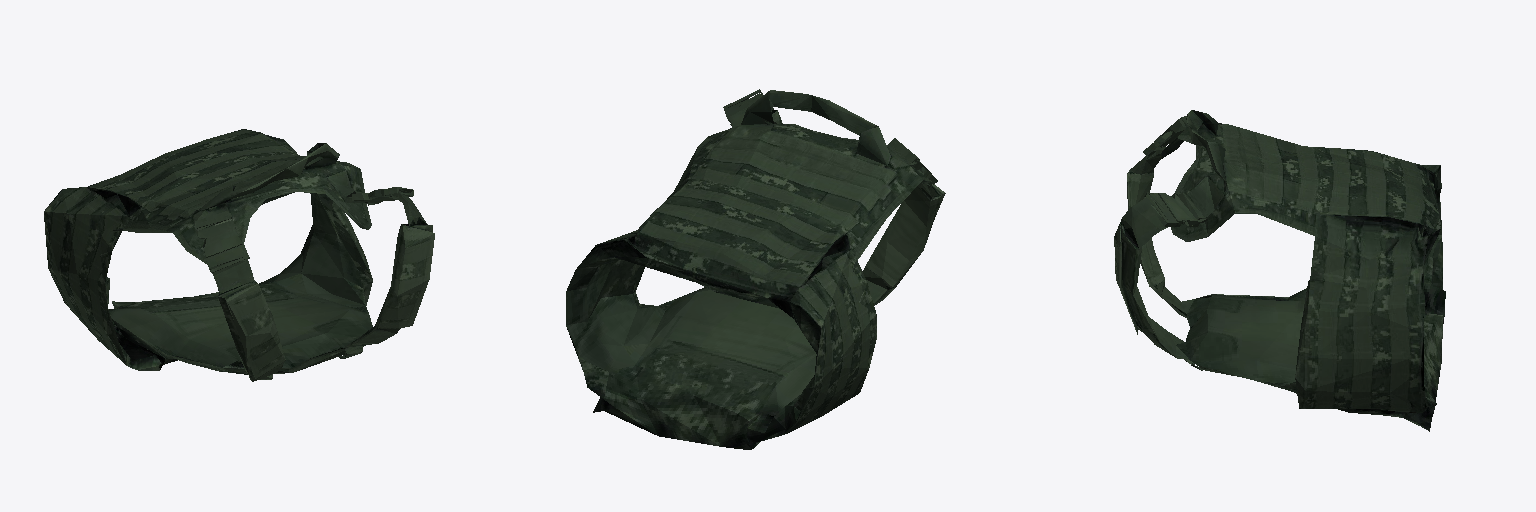
3 renders of one model, left to right at view 1: azimuth 30°, elevation 25°; view 2: azimuth 150°, elevation 25°; view 3: azimuth 270°, elevation 25°, orthographic.
Visible parts, largest first — view 1: PlateCarrier2.0.low_RetopoFlow; view 2: PlateCarrier2.0.low_RetopoFlow; view 3: PlateCarrier2.0.low_RetopoFlow.
Part boxes in pixels (x1,y1,x2,y2): PlateCarrier2.0.low_RetopoFlow: (44, 129, 434, 381); PlateCarrier2.0.low_RetopoFlow: (566, 89, 945, 449); PlateCarrier2.0.low_RetopoFlow: (1114, 110, 1445, 431).
Size of the model in its own units: 0.4313 by 0.4069 by 0.4662.
Materials: 1 (1 with a texture image).